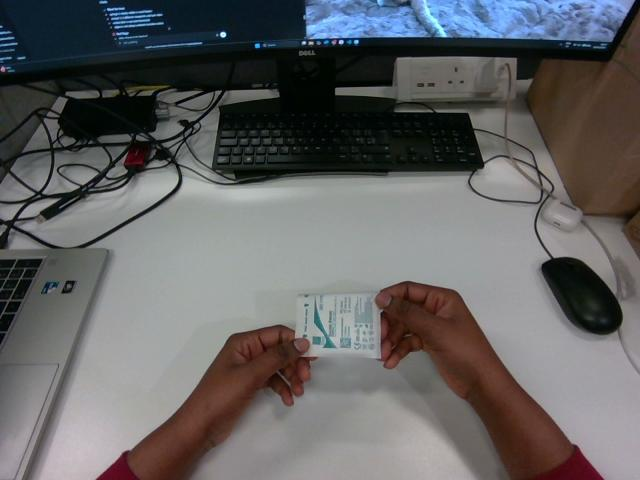gauze: (296, 292, 380, 358)
